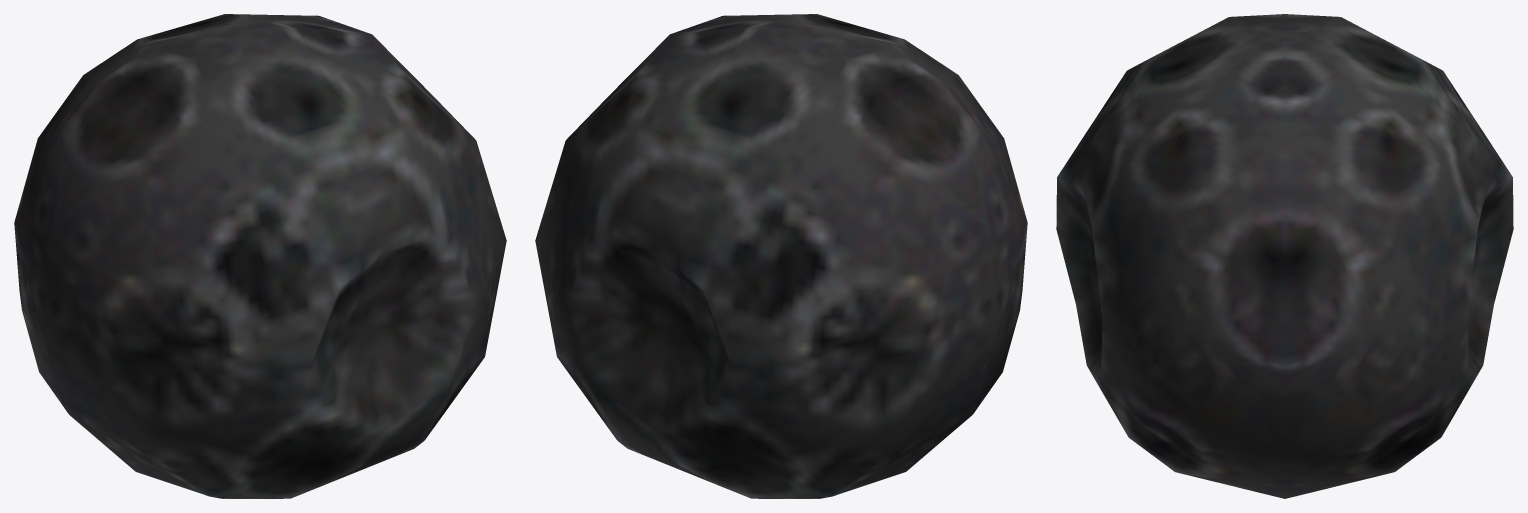
File: aerolite01.FBX
The picture shows the model from 3 angles, left to right: view 1: azimuth 30°, elevation 25°; view 2: azimuth 150°, elevation 25°; view 3: azimuth 270°, elevation 25°; orthographic projection. The views are drawn at different scales.
Visible parts, largest first — view 1: aerolite01; view 2: aerolite01; view 3: aerolite01.
Part boxes in pixels (x1,y1,x2,y2): aerolite01: (14,14,506,498); aerolite01: (535,14,1027,498); aerolite01: (1056,14,1513,498).
Size of the model in its own units: 1156 by 1184 by 1102.
